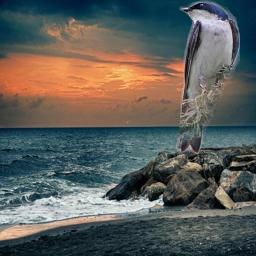Swallow: (174, 0, 240, 154)
